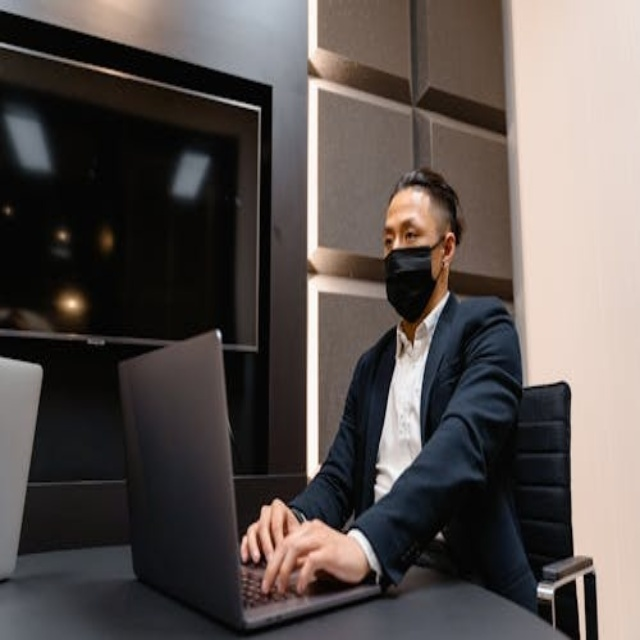Mascara: (384, 240, 448, 322)
Sin_gafas: (384, 213, 430, 250)
Sin_guantes: (241, 492, 362, 598)
